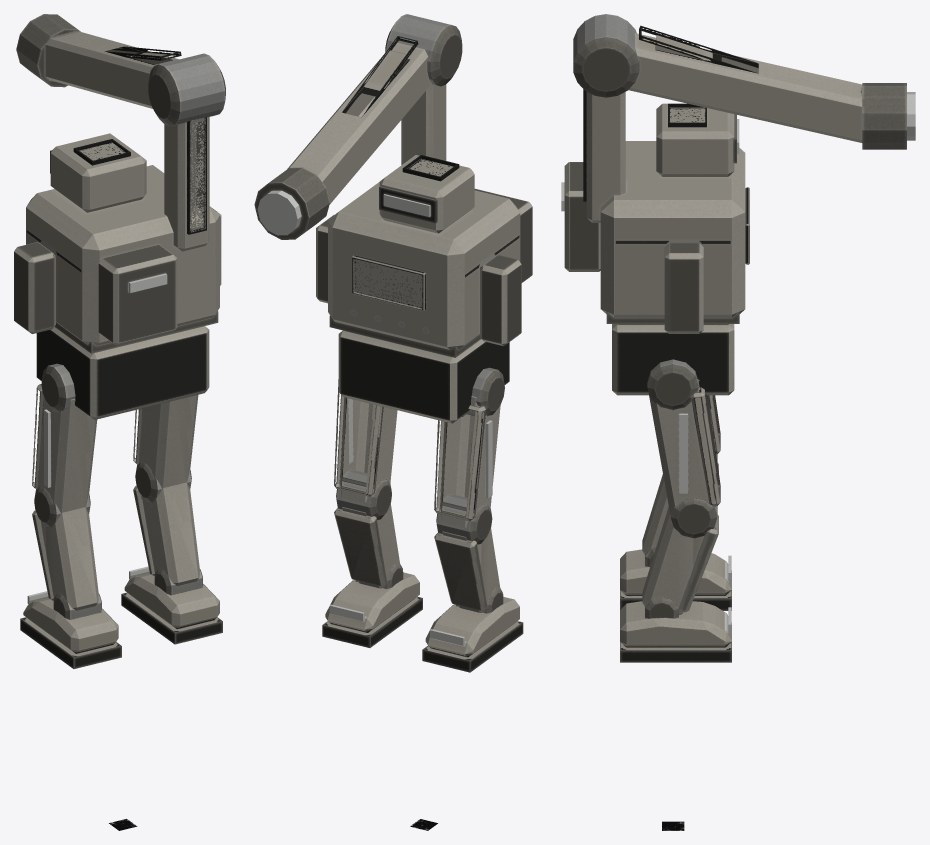
File: ord_steward.fbx
3 views of the same model, side by side, from view 1: azimuth 30°, elevation 25°; view 2: azimuth 150°, elevation 25°; view 3: azimuth 270°, elevation 25° (orthographic). The views are drawn at different scales.
Visible parts, largest first — view 1: torso_bar, nano_bar, base_bar, thighL_bar, shinL_bar, shinR_bar, thighR_bar, footL_bar, footR_bar, thighL_glow_running_bar, torso_glow_power_bar; view 2: torso_bar, nano_bar, base_bar, thighL_bar, thighR_bar, footL_bar, footR_bar, shinR_bar, shinL_bar, nano_glow_power_bar, torso_glow_head_bar, thighL_glow_running_bar; view 3: torso_bar, nano_bar, thighR_bar, base_bar, footR_bar, shinR_bar, footL_bar, shinL_bar, thighR_glow_running_bar.
Boxes of the visible parts, x1,y1,x2,y2 form: torso_bar: [14, 116, 221, 353]; nano_bar: [16, 14, 225, 126]; base_bar: [36, 326, 209, 419]; thighL_bar: [32, 363, 97, 527]; shinL_bar: [32, 507, 101, 619]; shinR_bar: [133, 482, 202, 595]; thighR_bar: [133, 395, 198, 502]; footL_bar: [20, 598, 121, 668]; footR_bar: [121, 573, 222, 644]; thighL_glow_running_bar: [44, 409, 50, 487]; torso_glow_power_bar: [129, 273, 167, 292]; torso_bar: [316, 84, 532, 357]; nano_bar: [254, 14, 462, 239]; base_bar: [338, 330, 509, 423]; thighL_bar: [434, 367, 504, 544]; thighR_bar: [334, 379, 397, 519]; footL_bar: [422, 597, 523, 672]; footR_bar: [322, 572, 422, 647]; shinR_bar: [334, 503, 403, 588]; shinL_bar: [434, 528, 503, 613]; nano_glow_power_bar: [257, 190, 301, 235]; torso_glow_head_bar: [383, 194, 430, 216]; thighL_glow_running_bar: [485, 420, 492, 497]; torso_bar: [564, 89, 749, 333]; nano_bar: [573, 14, 906, 149]; thighR_bar: [647, 359, 720, 538]; base_bar: [612, 324, 734, 395]; footR_bar: [620, 601, 731, 662]; shinR_bar: [642, 506, 718, 618]; footL_bar: [620, 549, 731, 610]; shinL_bar: [642, 463, 718, 566]; thighR_glow_running_bar: [679, 413, 687, 493].
Size of the model in its own units: 210 by 810 by 318.
Materials: 2 (2 with a texture image).
